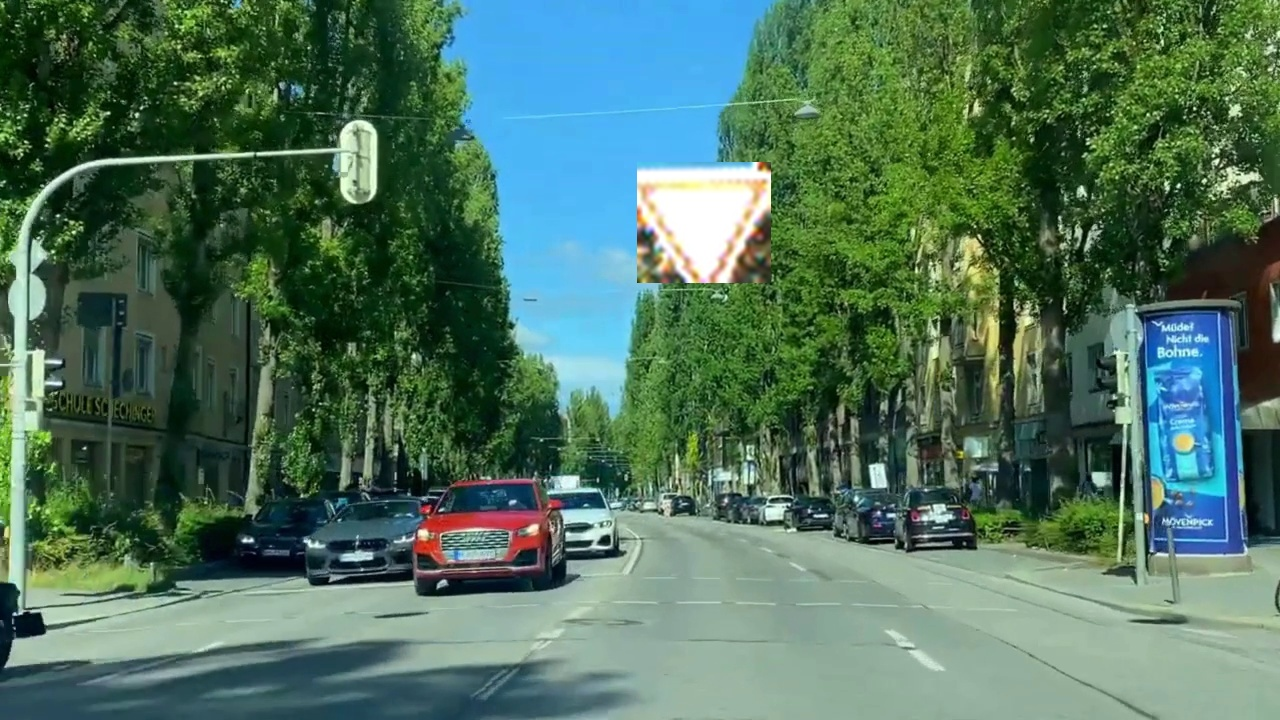Yield: (637, 162, 771, 283)
